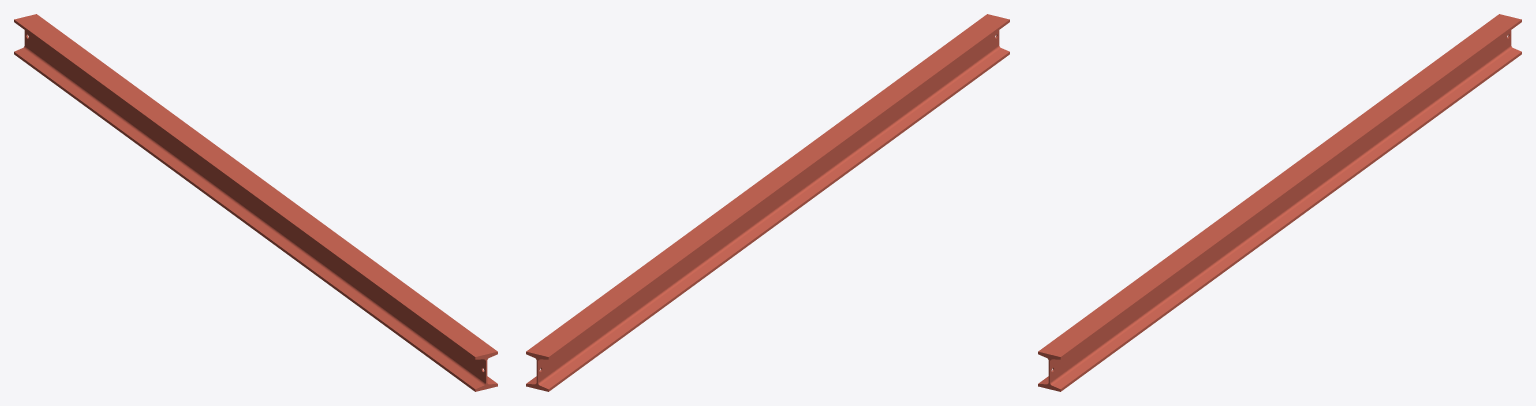
The model's file is H-Profile_for_Bridge_2400.glb.
3 views of the same model, side by side, from view 1: azimuth 30°, elevation 25°; view 2: azimuth 150°, elevation 25°; view 3: azimuth 330°, elevation 25° (orthographic).
Visible parts, largest first — view 1: H_Profile_Bridge2400_1; view 2: H_Profile_Bridge2400_1; view 3: H_Profile_Bridge2400_1.
Part boxes in pixels (bbox=[...]): H_Profile_Bridge2400_1: bbox=[14, 14, 497, 391]; H_Profile_Bridge2400_1: bbox=[526, 14, 1009, 391]; H_Profile_Bridge2400_1: bbox=[1038, 14, 1521, 391].
Bounding box in the file's own units: 68 × 100 × 2400.
